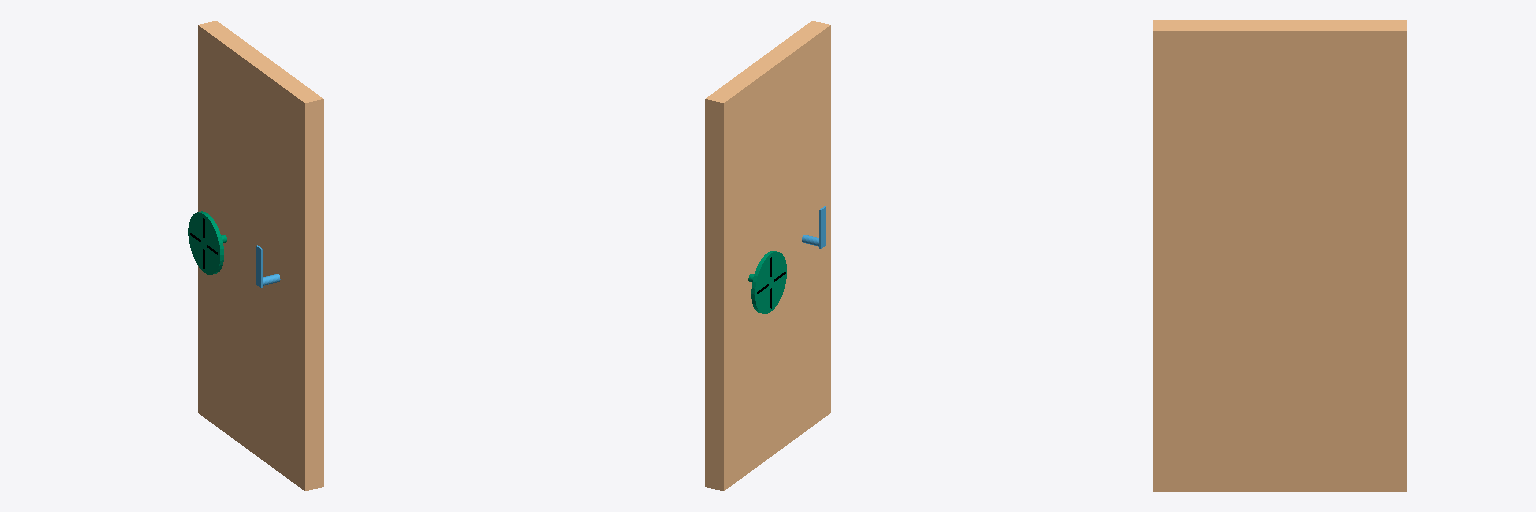
robot.urdf — simple_valve_wall:

<robot xmlns:xsi="http://www.w3.org/2001/XMLSchema-instance"
 xsi:schemaLocation="http://drake.mit.edu ../../../doc/drakeURDF.xsd" xmlns="http://drake.mit.edu"
 name="simple_valve_wall">
    
    
<link name="wall">
    <visual>
        <material><color rgba="1 .8 .6 0"/></material>
        <origin xyz="0 0 1"/>
        <geometry>
            <box size=".1 1 2"/>
        </geometry>
    </visual>
    <collision>
        <origin xyz="0 0 1"/>
        <geometry>
            <box size=".1 1 2"/>
        </geometry>
    </collision>
</link>    
    
<link name="handle">
    <!-- stem -->
    <visual>
        <origin rpy="0 1.57 0"/>
        <geometry>
            <cylinder radius=".02" length=".1"/>
        </geometry>
    </visual>
    <collision>
        <origin rpy="0 1.57 0"/>
        <geometry>
            <cylinder radius=".02" length=".1"/>
        </geometry>
    </collision>
    <!-- handle -->
    <visual>
        <origin xyz="-.0505 0 .08"/>
        <geometry>
            <box size=".01 .05 .2"/>
        </geometry>
    </visual>
    <collision>
        <origin xyz="-.0505 0 .08"/>
        <geometry>
            <box size=".01 .05 .2"/>
        </geometry>
    </collision>
</link>    
    
<joint name="handle" type="revolute">
    <origin xyz="-.1 -.25 1"/>
    <axis xyz="-1 0 0"/>
    <parent link="wall"/>
    <child link="handle"/>
    <dynamics damping="5"/>
    <!-- todo: add (coulumb) friction -->
</joint>    

<link name="wheel">
    <!-- stem -->
    <visual>
        <origin rpy="0 1.57 0"/>
        <geometry>
            <cylinder radius=".02" length=".1"/>
        </geometry>
    </visual>
    <collision>
        <origin rpy="0 1.57 0"/>
        <geometry>
            <cylinder radius=".02" length=".1"/>
        </geometry>
    </collision>
    <!-- wheel -->
    <visual>
        <origin xyz="-.0505 0 0" rpy="0 1.57 0"/>
        <geometry>
            <cylinder radius=".15" length=".02"/>
        </geometry>
    </visual>
    <collision>
        <origin xyz="-.0505 0 0" rpy="0 1.57 0"/>
        <geometry>
            <cylinder radius=".15" length=".02"/>
        </geometry>
    </collision>
    <!-- some visual (only) markings so we can see the orientation -->
    <visual>
        <origin xyz="-.06 0 .08" rpy="0 0 0"/>
        <material>
            <color rgba="0 0 0 0"/>
        </material>
        <geometry>
            <box size=".01 .01 .1"/>
        </geometry>
    </visual>
    <visual>
        <origin xyz="-.06 0 -.08" rpy="0 0 0"/>
        <material>
            <color rgba="0 0 0 0"/>
        </material>
        <geometry>
            <box size=".01 .01 .1"/>
        </geometry>
    </visual>
    <visual>
        <origin xyz="-.06 .08 0" rpy="1.57 0 0"/>
        <material>
            <color rgba="0 0 0 0"/>
        </material>
        <geometry>
            <box size=".01 .01 .1"/>
        </geometry>
    </visual>
    <visual>
        <origin xyz="-.06 -.08 0" rpy="1.57 0 0"/>
        <material>
            <color rgba="0 0 0 0"/>
        </material>
        <geometry>
            <box size=".01 .01 .1"/>
        </geometry>
    </visual>
</link>   

<joint name="wheel" type="revolute">
    <origin xyz="-.1 .25 1"/>
    <axis xyz="-1 0 0"/>
    <parent link="wall"/>
    <child link="wheel"/>
    <dynamics damping="5"/>
    <!-- todo: add (coulumb) friction -->
</joint>    
    
</robot>

--- Render facts (derived) ---
3 views of the same robot in one strip: view 1: azimuth 30°, elevation 25°; view 2: azimuth 150°, elevation 25°; view 3: azimuth 270°, elevation 25° (orthographic).
Robot: simple_valve_wall — 3 links, 2 joints (2 revolute); root link wall; default pose: every joint at zero.
Links seen in each view (by area): view 1: wall, wheel; view 2: wall, wheel; view 3: wall.
Link boxes in pixels (x1,y1,x2,y2): wall: [198, 21, 323, 490]; wheel: [188, 211, 226, 274]; wall: [705, 21, 830, 490]; wheel: [748, 251, 786, 313]; wall: [1153, 20, 1406, 491].
Bounding box of the posed robot: 0.215 × 1 × 2 m (x, y, z).
Geometry: primitives only (box / cylinder / sphere), no mesh files.